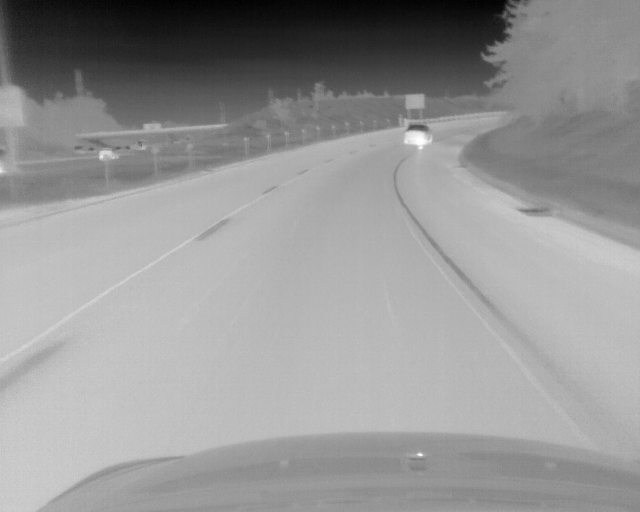car: (403, 124, 433, 146)
